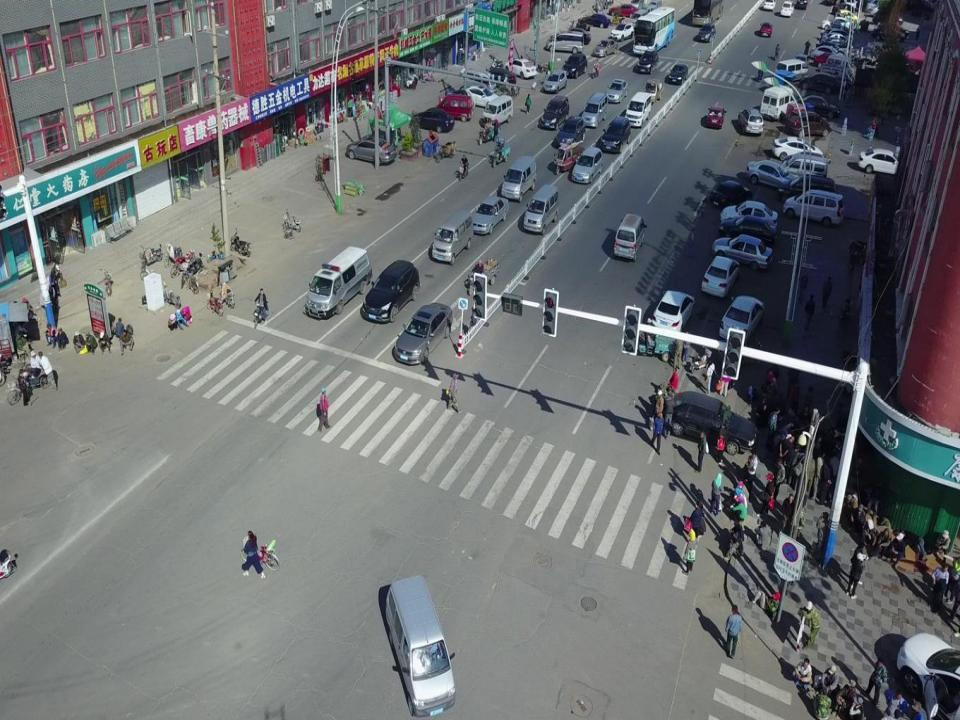bus: (634, 6, 675, 54), (690, 0, 724, 24)
car: (661, 390, 758, 452), (897, 634, 960, 714), (393, 302, 453, 363), (362, 259, 419, 322), (719, 200, 777, 244), (710, 233, 773, 268), (717, 296, 763, 339), (652, 290, 694, 335), (345, 134, 397, 166), (702, 256, 740, 297), (468, 196, 507, 234), (746, 159, 795, 189), (857, 148, 904, 177), (778, 171, 837, 194), (773, 136, 824, 160), (801, 68, 846, 95), (410, 109, 455, 134), (797, 94, 841, 119), (572, 146, 602, 180), (602, 115, 631, 150), (790, 110, 830, 135), (712, 180, 751, 204), (542, 96, 570, 128), (555, 117, 585, 146), (465, 85, 500, 108), (505, 57, 536, 78), (739, 108, 763, 135), (558, 26, 592, 44), (872, 26, 906, 44), (814, 51, 848, 68), (878, 20, 910, 38), (487, 66, 517, 85), (562, 53, 586, 76), (544, 68, 567, 91), (607, 78, 627, 103), (636, 50, 658, 72), (611, 2, 640, 18), (820, 30, 849, 46), (821, 26, 853, 40), (812, 38, 843, 52), (707, 104, 725, 128), (583, 12, 611, 27), (811, 44, 841, 58), (611, 22, 633, 40), (866, 2, 894, 16), (670, 62, 687, 85), (821, 14, 853, 26), (834, 8, 858, 24), (594, 40, 617, 56), (835, 3, 856, 16), (698, 26, 715, 42), (759, 21, 773, 38), (762, 0, 775, 11), (796, 0, 807, 8)
truck: (642, 77, 664, 103)
van: (385, 575, 454, 717), (306, 245, 373, 318), (783, 189, 844, 226), (431, 209, 474, 260), (522, 184, 560, 231), (502, 154, 536, 200), (613, 211, 644, 260), (781, 150, 829, 180), (763, 84, 795, 120), (433, 93, 473, 121), (580, 93, 608, 124), (546, 30, 583, 53), (820, 64, 854, 89), (627, 93, 649, 124), (777, 58, 808, 80), (826, 54, 854, 72), (633, 9, 648, 28), (867, 0, 889, 10), (782, 0, 794, 15), (645, 5, 657, 16), (650, 0, 664, 8)
